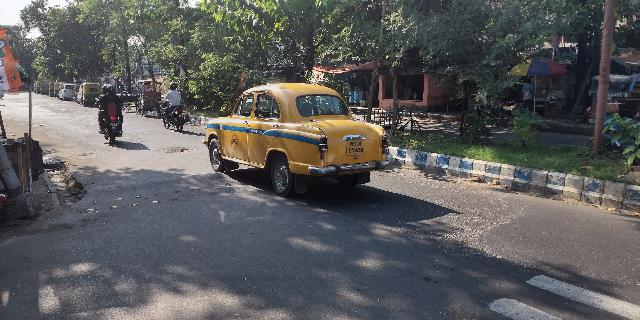Autorickshaw: (79, 78, 103, 112)
Car: (203, 80, 392, 200)
Motorbike: (95, 81, 125, 149), (157, 79, 187, 134)
Rickshaw: (133, 77, 160, 118)
